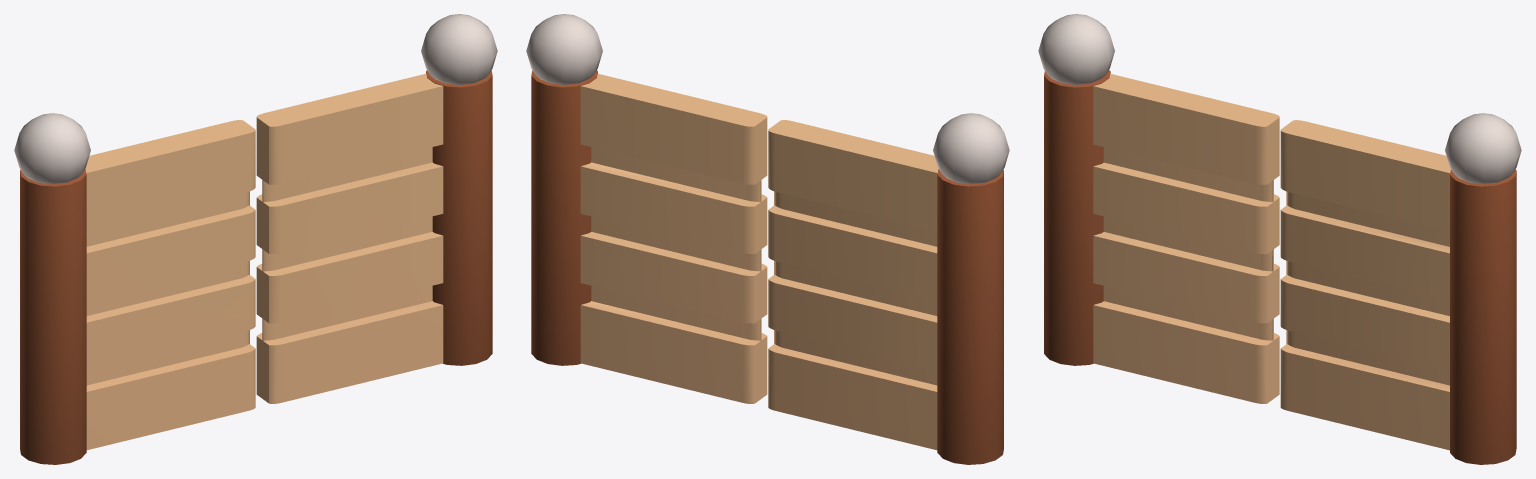
The model's file is Door.fbx.
The picture shows the model from 3 angles, left to right: view 1: azimuth 30°, elevation 25°; view 2: azimuth 150°, elevation 25°; view 3: azimuth 330°, elevation 25°; orthographic projection.
Visible parts, largest first — view 1: Door_Right, Door_Left, Cylinder, Cylinder.001; view 2: Door_Right, Door_Left, Cylinder, Cylinder.001; view 3: Door_Left, Door_Right, Cylinder.001, Cylinder.
Boxes of the visible parts, left/top/right/bottom form: Door_Right: left=256, top=73, right=443, bottom=403; Door_Left: left=85, top=120, right=255, bottom=450; Cylinder: left=14, top=113, right=90, bottom=464; Cylinder.001: left=421, top=14, right=497, bottom=365; Door_Right: left=580, top=73, right=767, bottom=403; Door_Left: left=768, top=120, right=938, bottom=450; Cylinder: left=933, top=113, right=1009, bottom=464; Cylinder.001: left=526, top=14, right=602, bottom=365; Door_Left: left=1093, top=74, right=1279, bottom=403; Door_Right: left=1280, top=120, right=1450, bottom=450; Cylinder.001: left=1445, top=113, right=1521, bottom=464; Cylinder: left=1038, top=14, right=1114, bottom=365.
Bounding box in the file's own units: 2.03 × 1.37 × 0.285.
